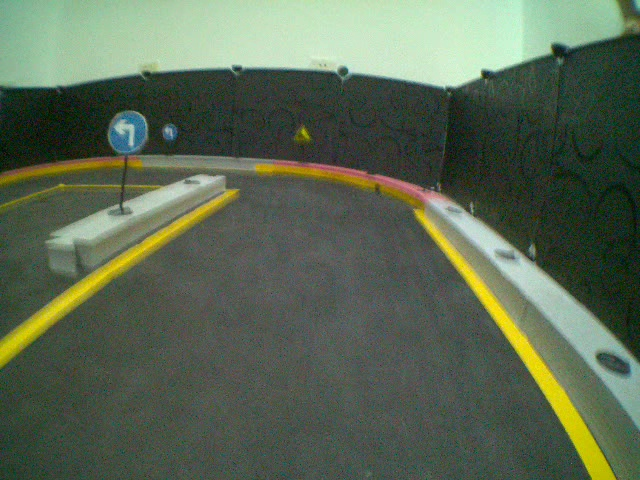fast: (292, 121, 313, 143)
turn: (106, 108, 149, 155), (161, 120, 178, 142)
